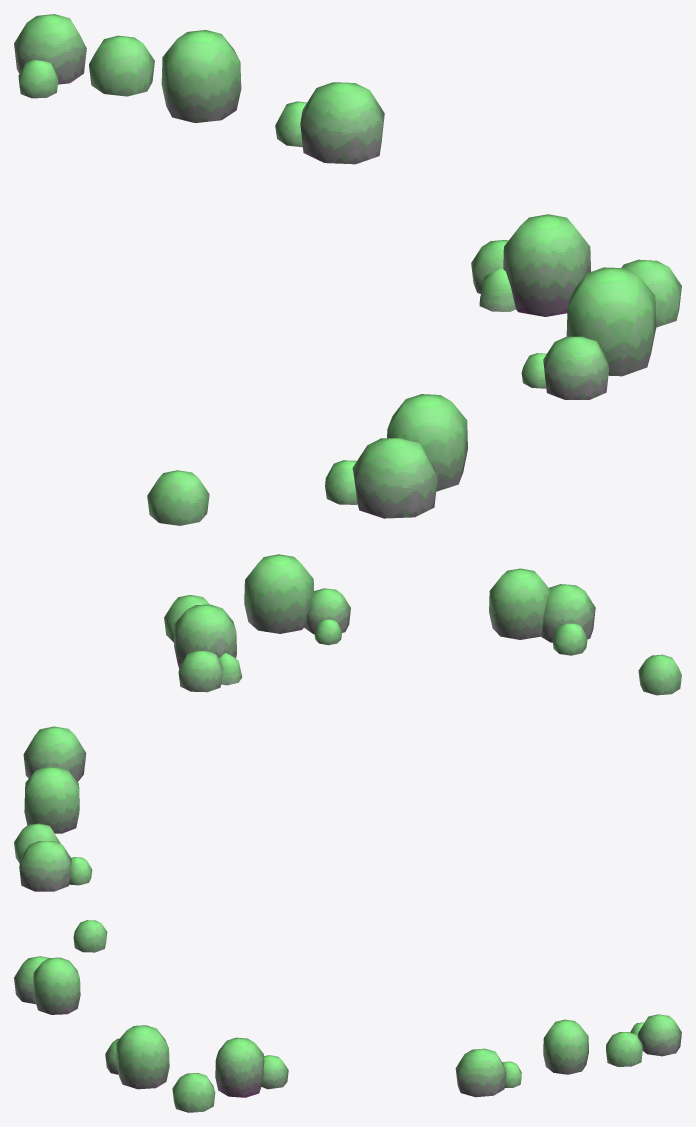
The model's file is plants2.glb.
The picture shows the model from 3 angles, top to bottom: view 1: azimuth 30°, elevation 25°; view 2: azimuth 150°, elevation 25°; view 3: azimuth 270°, elevation 25°; orthographic projection. The views are drawn at different scales.
Visible parts, largest first — view 1: Plants.007; view 2: Plants.007; view 3: Plants.007.
Boxes of the visible parts, x1,y1,x2,y2 form: Plants.007: (14,14,681,525); Plants.007: (14,554,681,891); Plants.007: (14,920,681,1112).
Bounding box in the file's own units: 2.74 × 0.4071 × 4.42.
1 material, 1 textured.
